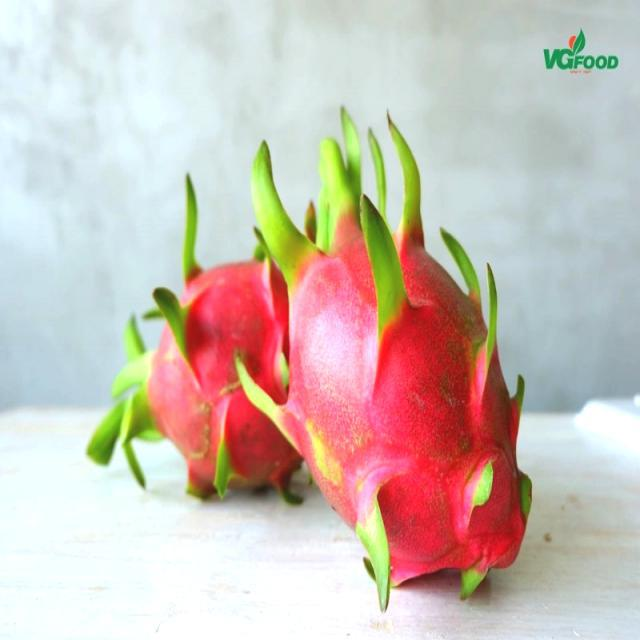trang: (238, 108, 530, 617), (99, 170, 322, 509)
